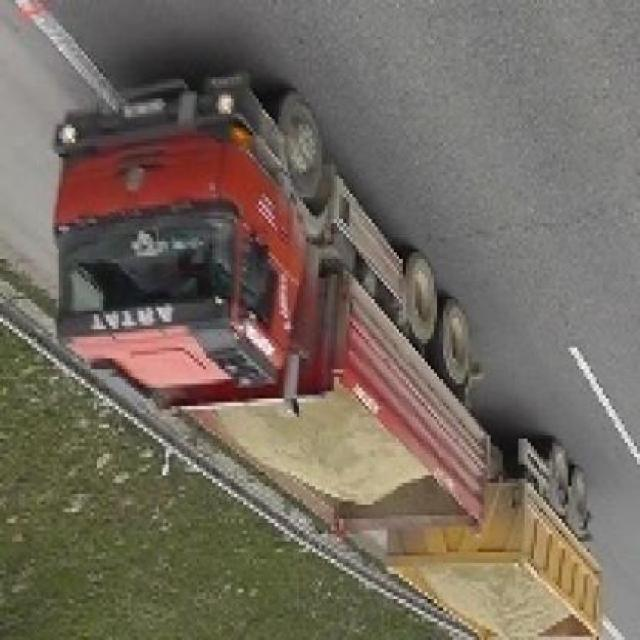truck: (55, 75, 604, 640)
